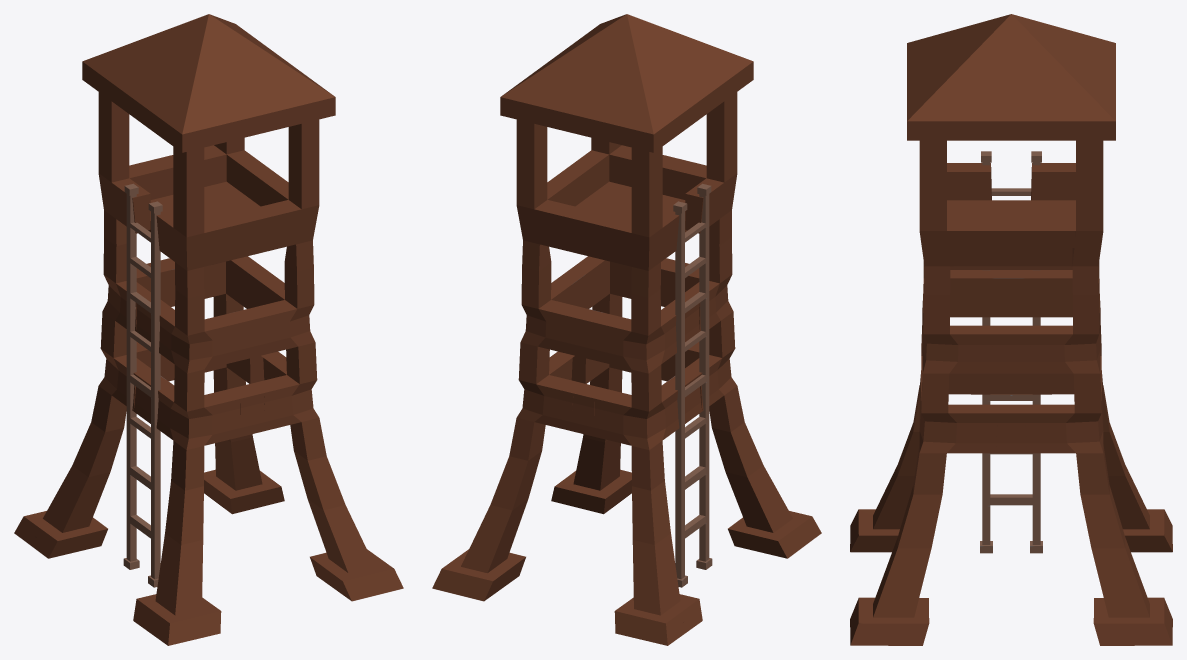
Rendered from WatchTower.fbx.
3 renders of one model, left to right at view 1: azimuth 30°, elevation 25°; view 2: azimuth 150°, elevation 25°; view 3: azimuth 270°, elevation 25°, orthographic. The views are drawn at different scales.
Visible parts, largest first — view 1: Tower, Ladder; view 2: Tower, Ladder; view 3: Tower, Ladder.
Part boxes in pixels (<box>): Tower: <box>14,14,403,645</box>; Ladder: <box>123,183,162,587</box>; Tower: <box>432,14,821,645</box>; Ladder: <box>673,183,712,587</box>; Tower: <box>850,14,1172,645</box>; Ladder: <box>980,151,1042,553</box>.
Bounding box in the file's own units: 3302 × 7301 × 3736.
Materials: 2 (2 with a texture image).
